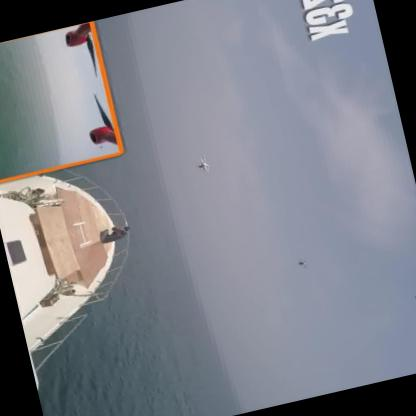drone: (187, 147, 220, 179)
